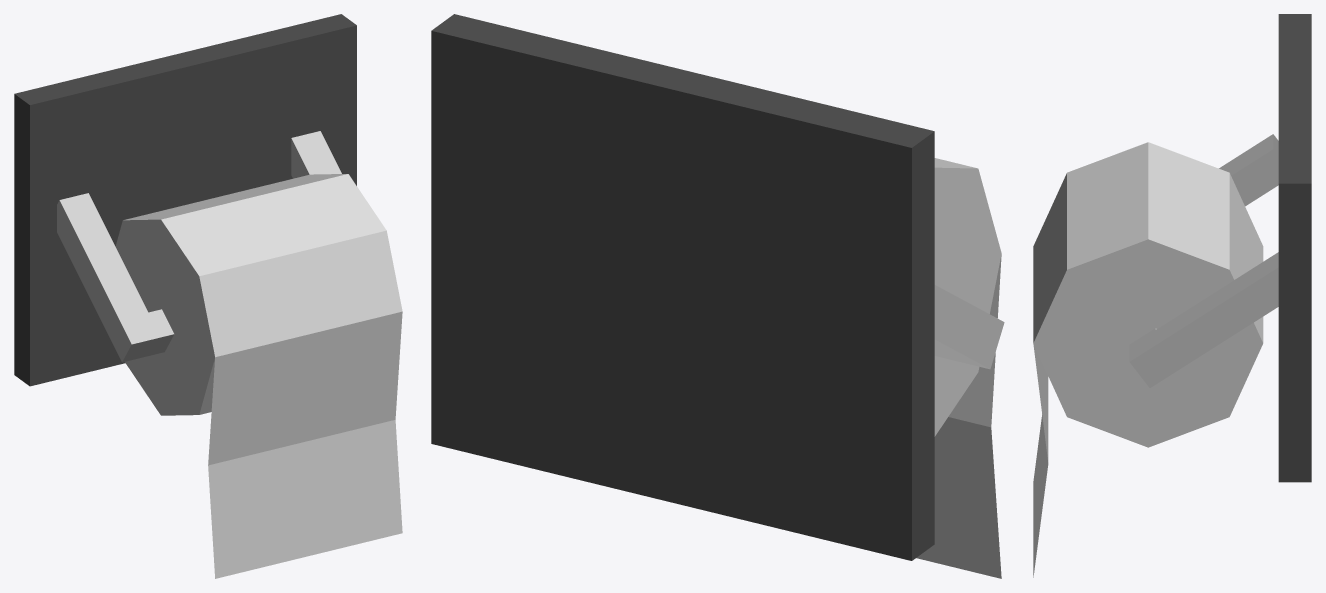
The model's file is ToiletPaper.fbx.
3 renders of one model, left to right at view 1: azimuth 30°, elevation 25°; view 2: azimuth 150°, elevation 25°; view 3: azimuth 270°, elevation 25°, orthographic. The views are drawn at different scales.
Parts seen in each view (by area): view 1: Toiletpaper; view 2: Toiletpaper; view 3: Toiletpaper.
Boxes of the visible parts, <box> form: Toiletpaper: <box>14,14,402,578</box>; Toiletpaper: <box>431,14,1004,578</box>; Toiletpaper: <box>1033,14,1311,577</box>.
Bounding box in the file's own units: 524 × 621 × 363.
